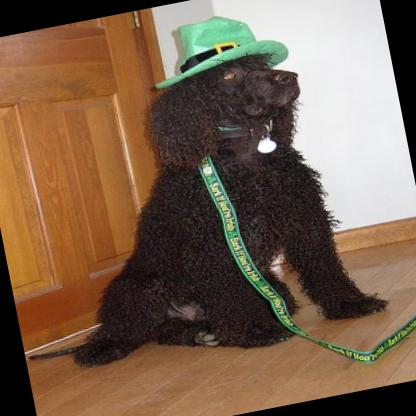Irish_water_spaniel: (0, 36, 388, 389)
